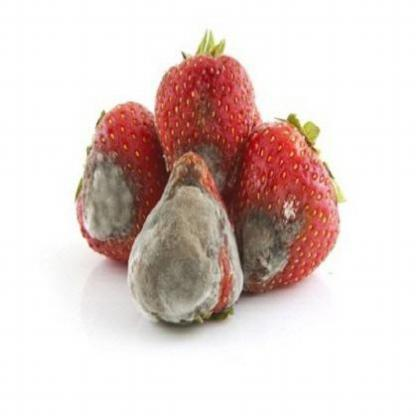Strawberry_Gray_Mold: (126, 151, 244, 326), (77, 126, 149, 256), (160, 76, 234, 199), (230, 189, 314, 294)
